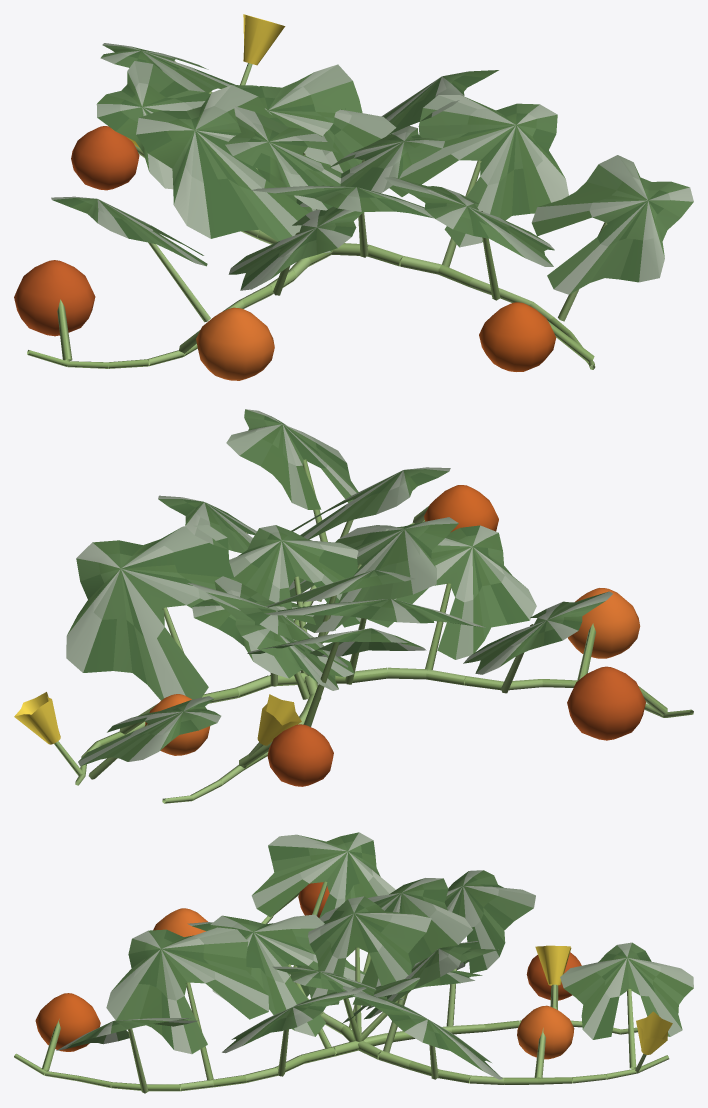
The model's file is courge_potimarron_mur.glb.
3 views of the same model, one above another, from view 1: azimuth 30°, elevation 25°; view 2: azimuth 150°, elevation 25°; view 3: azimuth 270°, elevation 25° (orthographic). The views are drawn at different scales.
Parts seen in each view (by area): view 1: Courge_Feuilles, Courge_Fruits, Courge_Tiges, Courge_Fleurs; view 2: Courge_Feuilles, Courge_Fruits, Courge_Tiges, Courge_Fleurs; view 3: Courge_Feuilles, Courge_Tiges, Courge_Fruits, Courge_Fleurs.
Part boxes in pixels (x1,y1,x2,y2): Courge_Feuilles: (51,43,693,294); Courge_Fruits: (14,126,556,380); Courge_Tiges: (27,61,607,369); Courge_Fleurs: (112,14,285,147); Courge_Feuilles: (66,409,612,766); Courge_Fruits: (145,485,645,786); Courge_Tiges: (54,459,693,803); Courge_Fleurs: (14,692,301,745); Courge_Feuilles: (56,832,693,1079); Courge_Tiges: (14,881,669,1093); Courge_Fruits: (35,882,581,1059); Courge_Fleurs: (535,945,672,1054).
Bounding box in the file's own units: 1.36 × 0.3276 × 1.69.
